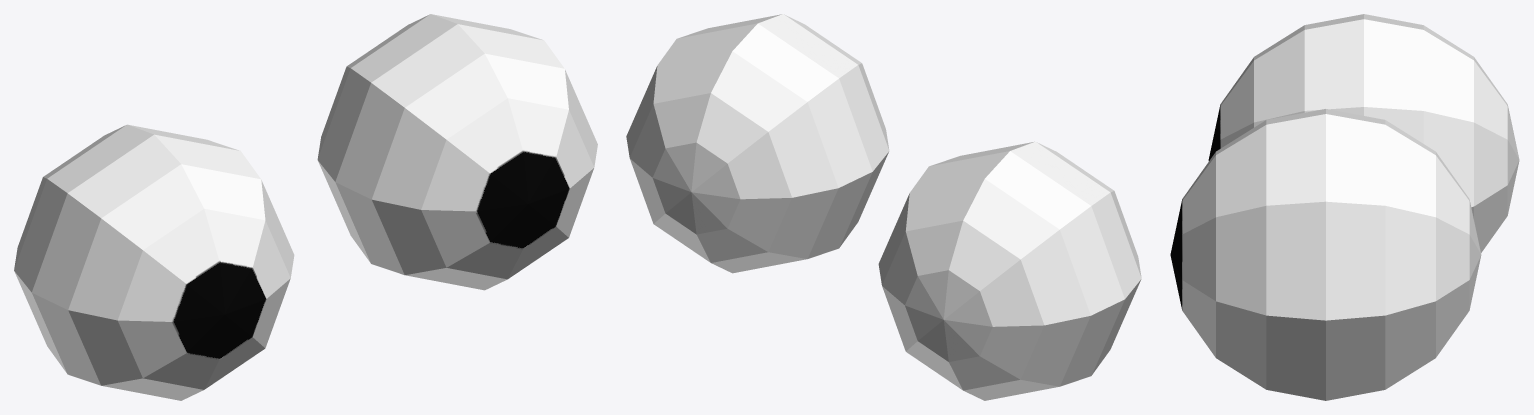
Rendered from eyes.fbx.
3 renders of one model, left to right at view 1: azimuth 30°, elevation 25°; view 2: azimuth 150°, elevation 25°; view 3: azimuth 270°, elevation 25°, orthographic. The views are drawn at different scales.
Visible parts, largest first — view 1: Eye; view 2: Eye; view 3: Eye.
Boxes of the visible parts, x1=… form: Eye: x1=14, y1=14, x2=597, y2=400; Eye: x1=626, y1=14, x2=1141, y2=400; Eye: x1=1170, y1=14, x2=1519, y2=400.
Bounding box in the file's own units: 3.11 × 1.73 × 1.61.
